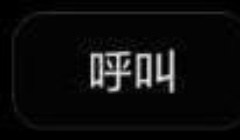Button: (1, 1, 239, 139)
